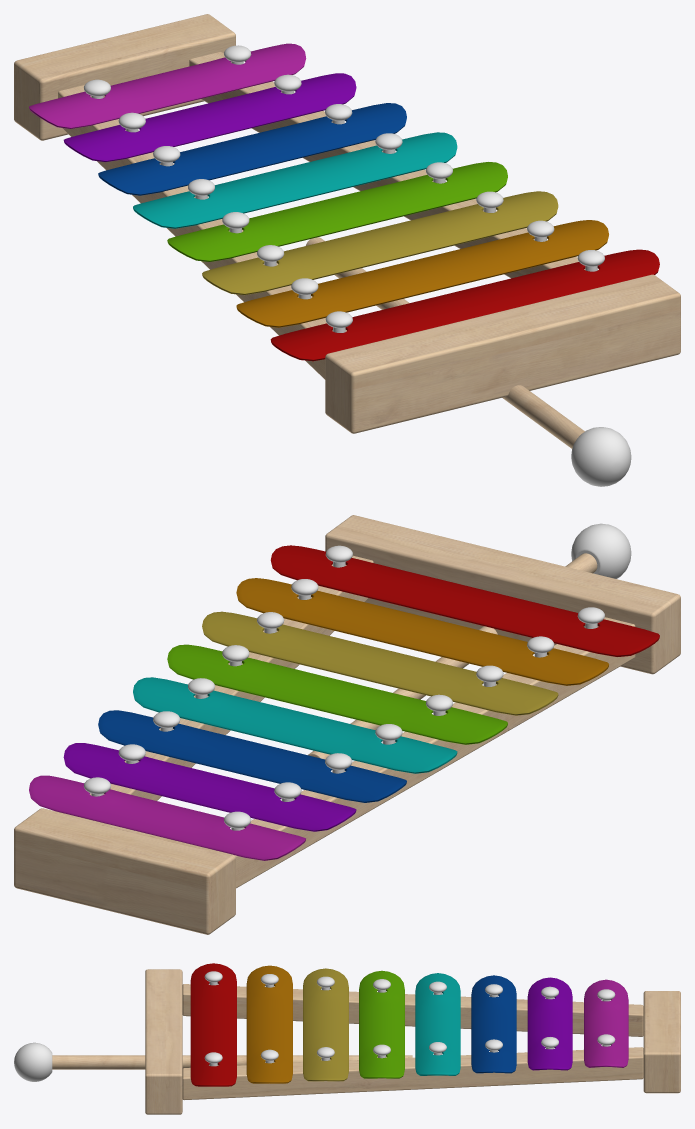
Rendered from xylo.fbx.
3 views of the same model, one above another, from view 1: azimuth 30°, elevation 25°; view 2: azimuth 150°, elevation 25°; view 3: azimuth 270°, elevation 25° (orthographic). The views are drawn at different scales.
Parts seen in each view (by area): view 1: polySurface3, polySurface6, polySurface7, polySurface5, polySurface8, polySurface4, polySurface9, polySurface10, polySurface11, polySurface12, Mallet, polySurface1 (+1 smaller); view 2: polySurface4, polySurface3, polySurface5, polySurface6, polySurface7, polySurface8, polySurface9, polySurface10, polySurface11, polySurface12, polySurface2, Mallet (+1 smaller); view 3: polySurface1, polySurface3, polySurface5, polySurface6, polySurface7, polySurface8, polySurface9, polySurface10, polySurface4, polySurface11, polySurface12, polySurface2 (+1 smaller).
Boxes of the visible parts, x1,y1,x2,y2 form: polySurface3: [325, 274, 680, 433]; polySurface6: [236, 220, 608, 327]; polySurface7: [202, 191, 558, 295]; polySurface5: [270, 249, 659, 361]; polySurface8: [167, 162, 507, 261]; polySurface4: [14, 14, 235, 140]; polySurface9: [133, 132, 457, 228]; polySurface10: [98, 103, 406, 195]; polySurface11: [63, 73, 356, 162]; polySurface12: [29, 43, 306, 128]; Mallet: [306, 237, 631, 486]; polySurface1: [189, 51, 585, 278]; polySurface4: [14, 808, 235, 934]; polySurface3: [325, 515, 680, 674]; polySurface5: [270, 545, 659, 656]; polySurface6: [236, 578, 608, 685]; polySurface7: [202, 611, 558, 715]; polySurface8: [167, 644, 507, 744]; polySurface9: [133, 677, 457, 773]; polySurface10: [98, 710, 406, 802]; polySurface11: [63, 743, 356, 831]; polySurface12: [29, 775, 305, 860]; polySurface2: [235, 617, 635, 888]; Mallet: [308, 523, 631, 759]; polySurface1: [182, 1047, 643, 1100]; polySurface3: [145, 969, 182, 1114]; polySurface5: [190, 963, 236, 1086]; polySurface6: [246, 965, 292, 1083]; polySurface7: [303, 968, 348, 1081]; polySurface8: [359, 970, 404, 1078]; polySurface9: [415, 973, 460, 1075]; polySurface10: [471, 975, 516, 1073]; polySurface4: [643, 991, 680, 1093]; polySurface11: [527, 977, 572, 1070]; polySurface12: [584, 979, 628, 1067]; polySurface2: [182, 984, 643, 1036].
Bounding box in the file's own units: 11.56 × 2.96 × 26.76.
